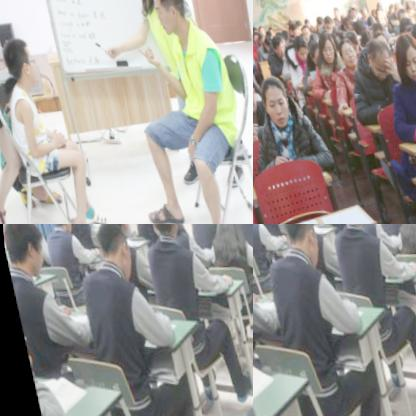head: (0, 224, 45, 280), (86, 224, 129, 279), (253, 74, 293, 130), (0, 33, 39, 87), (273, 224, 316, 266), (143, 0, 189, 34), (360, 36, 393, 81), (390, 29, 416, 82), (314, 31, 338, 64), (334, 36, 356, 67), (208, 224, 238, 243), (287, 35, 307, 63), (367, 26, 386, 52), (395, 13, 413, 40), (139, 224, 176, 237), (91, 224, 124, 238), (304, 39, 321, 65), (127, 224, 153, 241), (342, 30, 359, 53), (318, 13, 334, 36), (393, 3, 409, 25), (267, 34, 282, 56), (405, 20, 416, 50), (44, 224, 70, 235), (296, 22, 308, 40), (386, 0, 401, 14), (354, 1, 366, 18), (310, 12, 321, 30), (402, 0, 414, 16), (286, 23, 298, 39), (276, 27, 287, 42), (347, 3, 357, 18), (258, 34, 268, 48), (253, 21, 262, 34), (330, 5, 339, 18), (253, 32, 261, 42), (253, 30, 256, 43)
